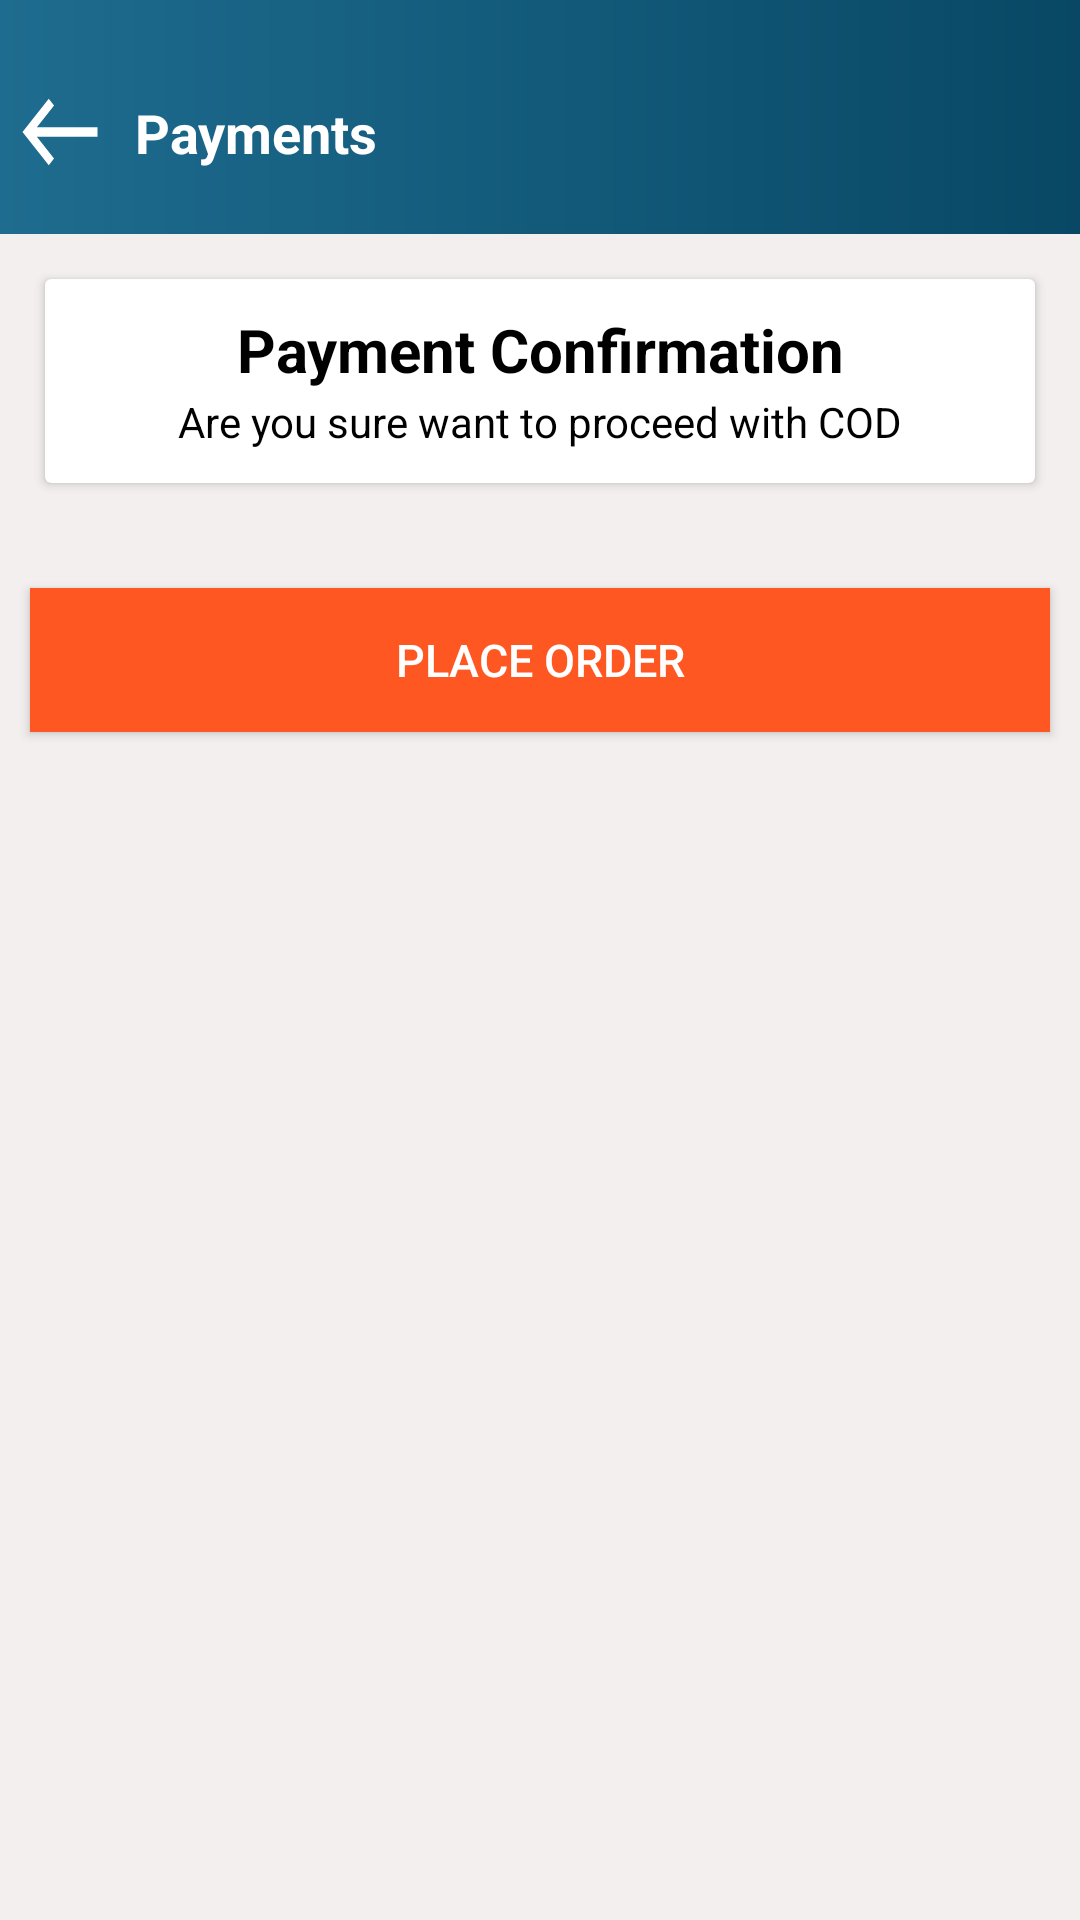

Where icons sit on this 1080 x 1920 app screen, as (x1, y1, x2, y2):
west: (22, 99, 98, 165)
